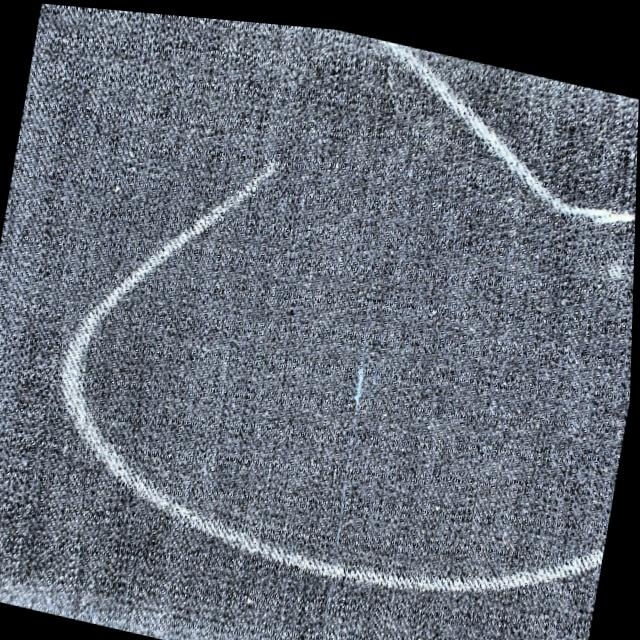Hole: (316, 339, 406, 438)
